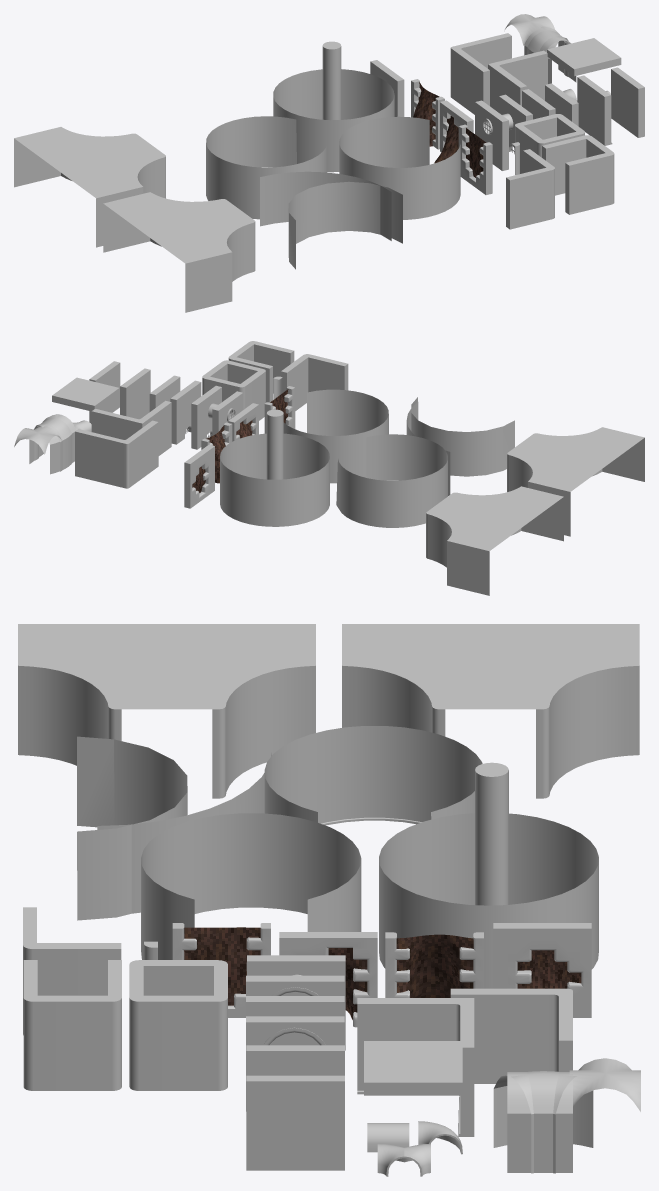
File: Walls.fbx
3 renders of one model, top to bottom at view 1: azimuth 30°, elevation 25°; view 2: azimuth 150°, elevation 25°; view 3: azimuth 270°, elevation 25°, orthographic. The views are drawn at different scales.
Visible parts, largest first — view 1: Curved_Walls_Interior, Curved_Walls_Exterior, Wall_A_Roundabout, Wall_B_Roundabout, Roundabout_Continuation, Stairs_C_Wall, Wall_Round_Half, Wall_A_Corner, Stairs_B_Wall, Wall_Round_Quarter, Wall_B_Corner, Wall_B (+18 smaller); view 2: Curved_Walls_Exterior, Roundabout_Continuation, Wall_B_Roundabout, Curved_Walls_Interior, Wall_A_Roundabout, Wall_A_Corner, Stairs_C_Wall, Wall_Round_Quarter, Wall_Round_Full, Wall_B_Corner, Wall_Round_Half, Ceiling (+15 smaller); view 3: Curved_Walls_Interior, Curved_Walls_Exterior, Wall_A_Roundabout, Roundabout_Continuation, Wall_B_Roundabout, Stairs_C_Wall, Wall_Round_Full, Wall_Round_Half, Wall_A, Wall_A_Corner, Wall_B_Corner, Dungeon_Tunnel (+21 smaller).
Part boxes in pixels (x1,y1,x2,y2): Curved_Walls_Interior: (103,192,255,312); Curved_Walls_Exterior: (14,127,165,247); Wall_A_Roundabout: (339,116,460,219); Wall_B_Roundabout: (206,116,327,219); Roundabout_Continuation: (273,69,394,172); Stairs_C_Wall: (288,181,402,269); Wall_Round_Half: (542,135,614,214); Wall_A_Corner: (450,33,511,114); Stairs_B_Wall: (260,171,391,240); Wall_Round_Quarter: (506,149,554,229); Wall_B_Corner: (488,50,547,112); Wall_B: (577,75,612,145); Curved_Walls_Exterior: (426,486,563,595); Roundabout_Continuation: (220,433,329,526); Wall_B_Roundabout: (336,434,447,527); Curved_Walls_Interior: (507,427,644,536); Wall_A_Roundabout: (283,389,388,483); Wall_A_Corner: (75,420,158,488); Stairs_C_Wall: (411,397,514,476); Wall_Round_Quarter: (281,354,348,410); Wall_Round_Full: (202,360,265,420); Wall_B_Corner: (91,400,171,455); Wall_Round_Half: (228,341,294,402); Ceiling: (52,377,119,411); Curved_Walls_Interior: (18,624,315,798); Curved_Walls_Exterior: (342,624,639,798); Wall_A_Roundabout: (141,813,361,959); Roundabout_Continuation: (379,813,598,988); Wall_B_Roundabout: (264,726,482,825); Stairs_C_Wall: (77,736,187,920); Wall_Round_Full: (129,960,227,1090); Wall_Round_Half: (23,960,121,1090); Wall_A: (246,1075,344,1170); Wall_A_Corner: (450,988,572,1083); Wall_B_Corner: (357,998,474,1136); Dungeon_Tunnel: (507,1072,572,1172).
Size of the model in its own units: 0.3951 by 0.074 by 0.2211.
